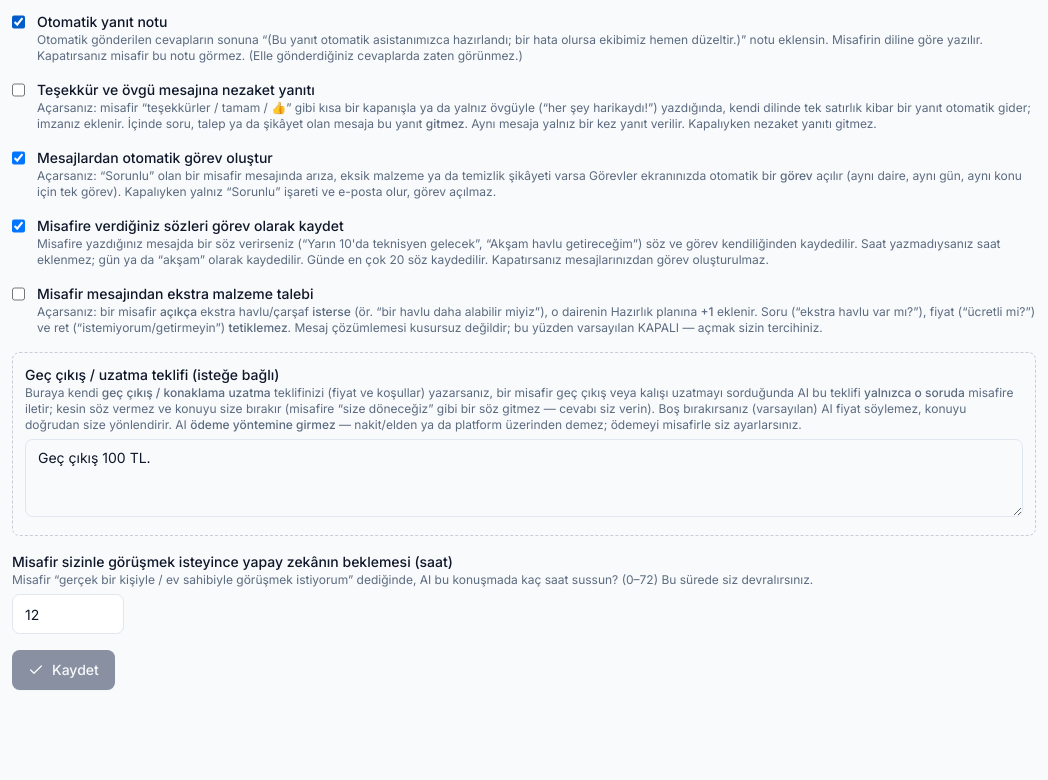
Test case: otomasyon ayarları — kayıt sürerken yazılan kaybolmaz (X4) › 🚨 istek beklerken teklif alanına yazılan yeni metin yerinde kalır; 'Kaydedildi' DENMEZ, Kaydet yeniden açılır ve yeni metni yollar
Later steps or results of the test are not shown.
Replace the text in the text box with id "late-checkout-offer" with "Geç çıkış 300 TL.". click: (524, 478)
box: top-left (25, 439), bottom-right (1023, 517)
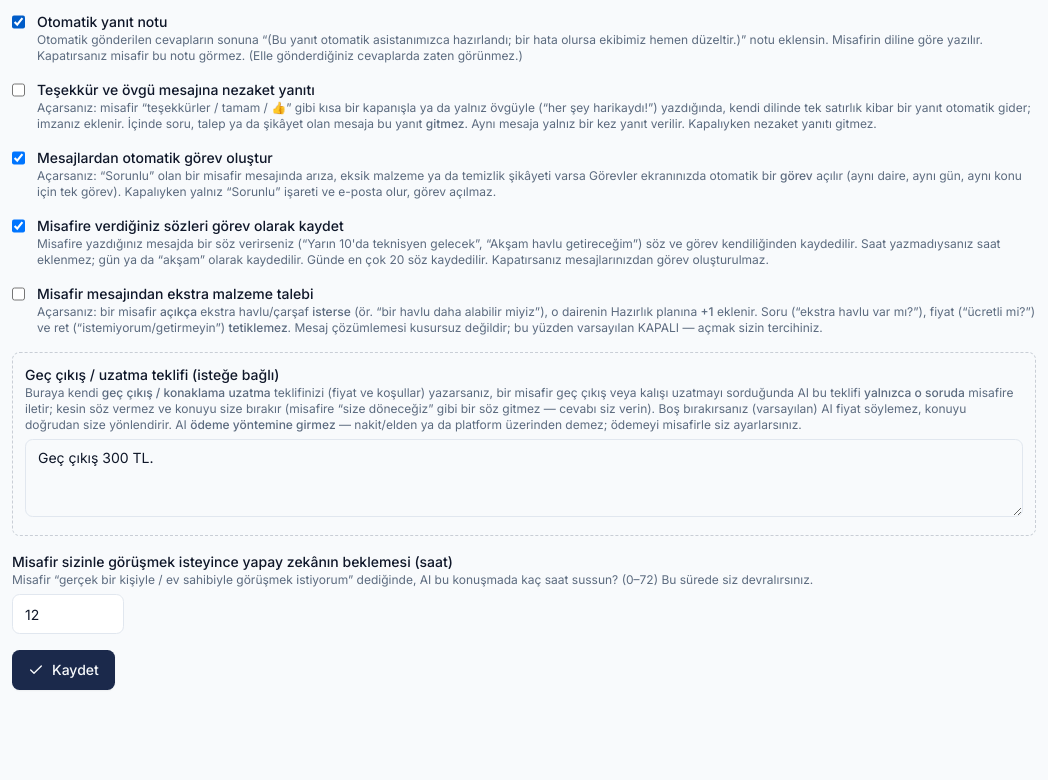
Click the button "Kaydet". click: (63, 670)
box: top-left (12, 650), bottom-right (115, 690)
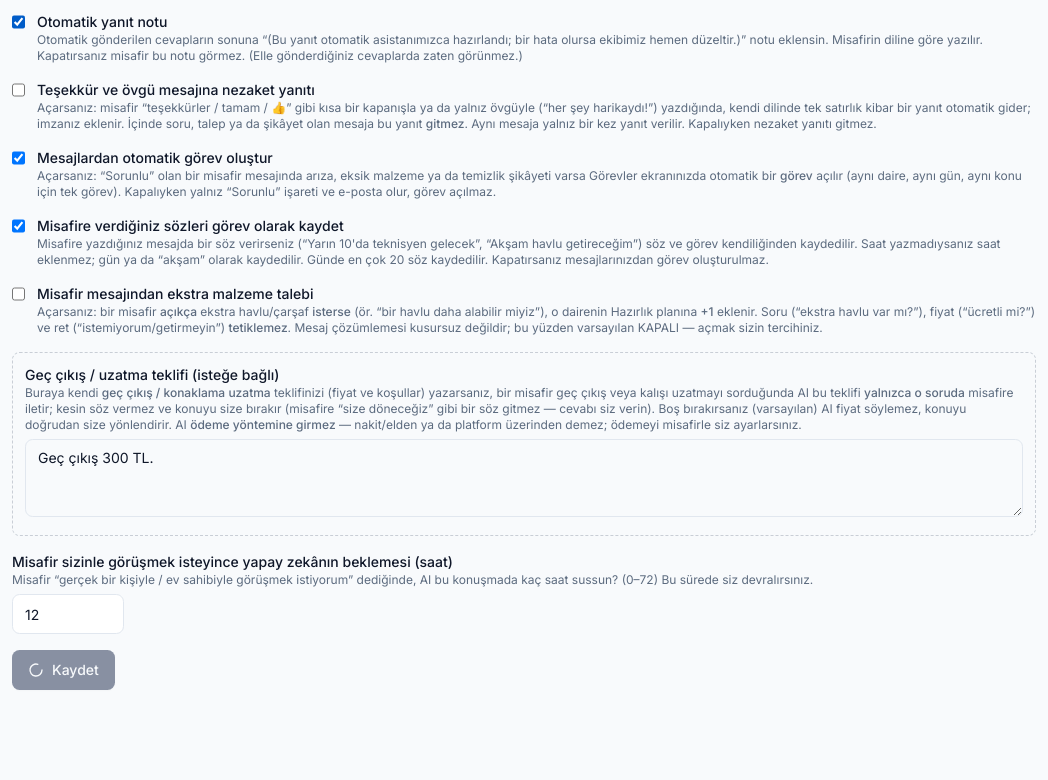
Note: İstek sürerken kullanıcı yazmaya devam etti.
Replace the text in the text box with id "late-checkout-offer" with "Geç çıkış 500 TL.". click: (524, 478)
box: top-left (25, 439), bottom-right (1023, 517)
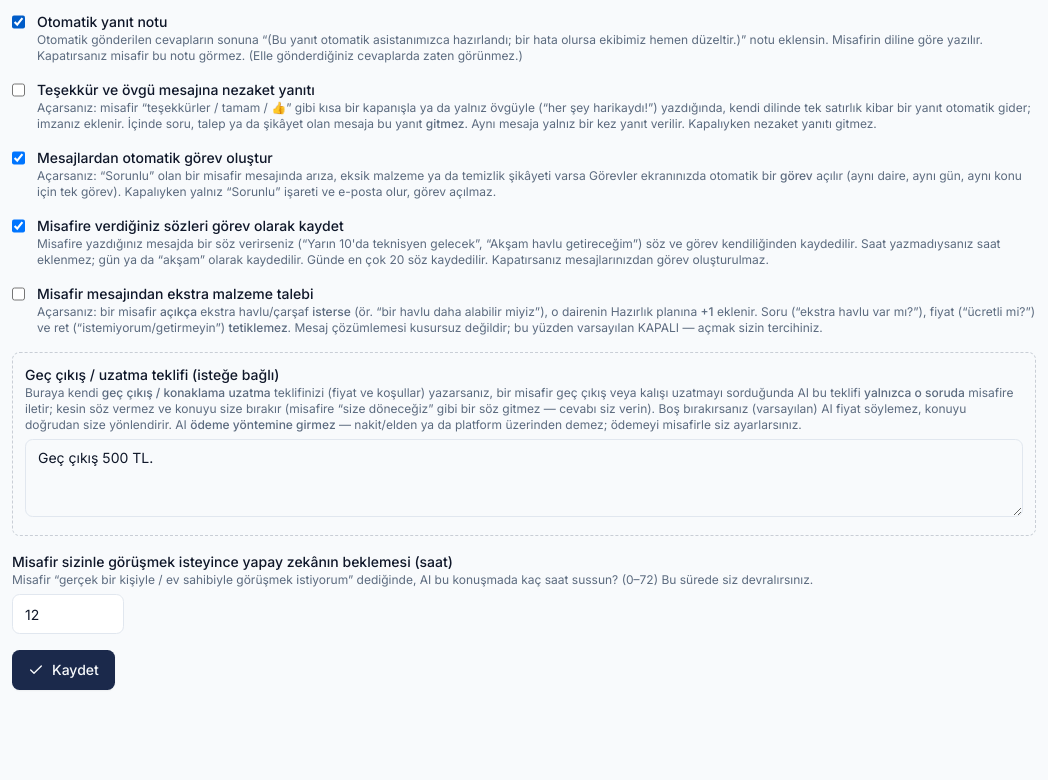
Expected: the button "Kaydet" is enabled, top-left (12, 650), bottom-right (115, 690)
